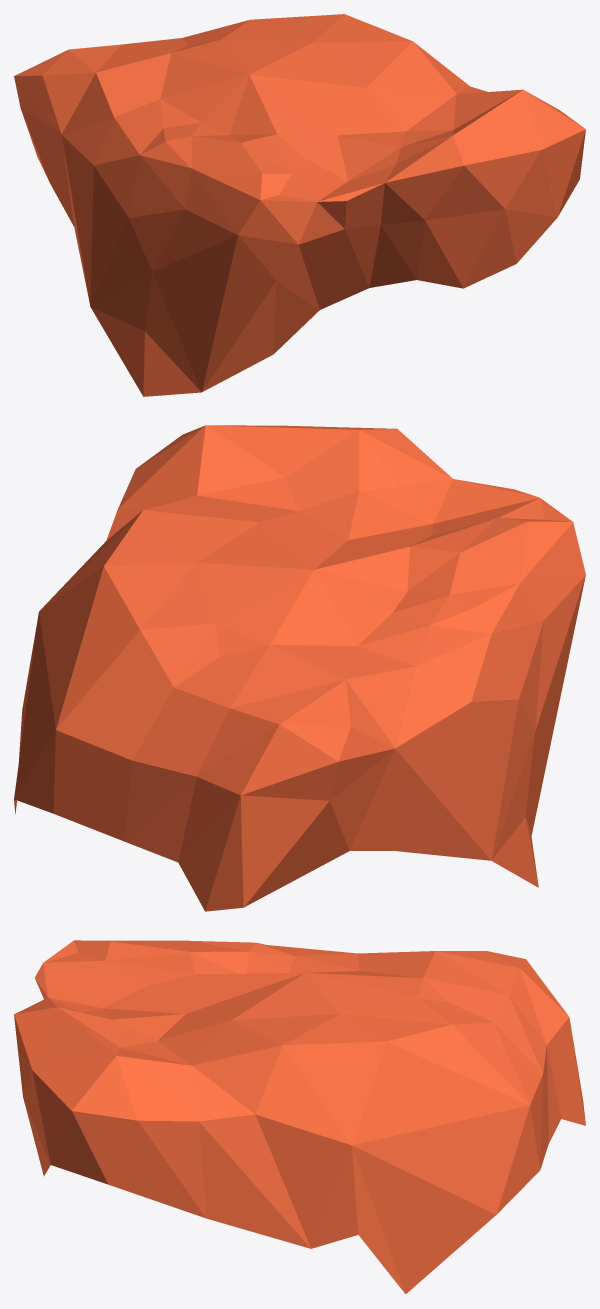
Rendered from ground_026.fbx.
3 views of the same model, one above another, from view 1: azimuth 30°, elevation 25°; view 2: azimuth 150°, elevation 25°; view 3: azimuth 270°, elevation 25° (orthographic). The views are drawn at different scales.
Parts seen in each view (by area): view 1: ground.026; view 2: ground.026; view 3: ground.026.
Part boxes in pixels (bbox=[...]): ground.026: bbox=[14, 14, 585, 396]; ground.026: bbox=[14, 425, 585, 911]; ground.026: bbox=[14, 940, 585, 1294].
Size of the model in its own units: 1958 by 1280 by 2438.
1 material, 1 textured.
